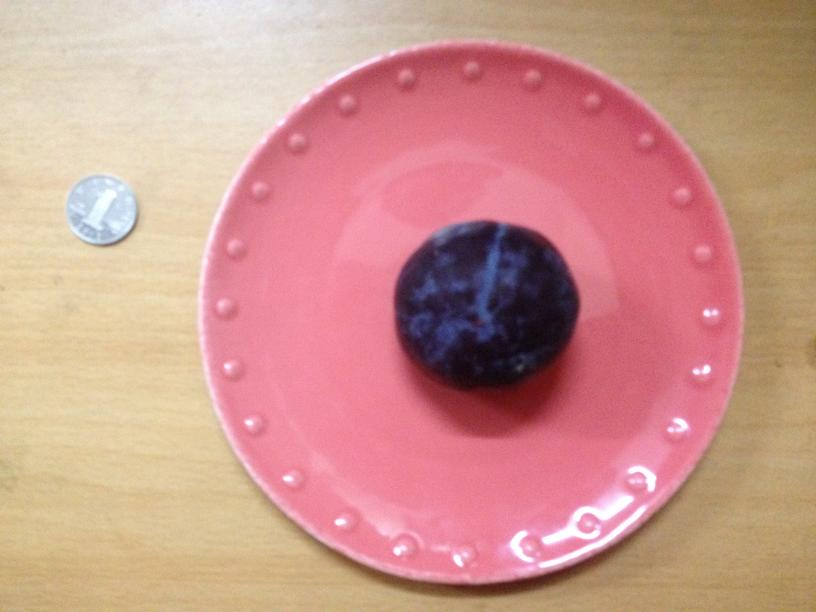coin: (61, 175, 137, 244)
plum: (392, 218, 579, 392)
